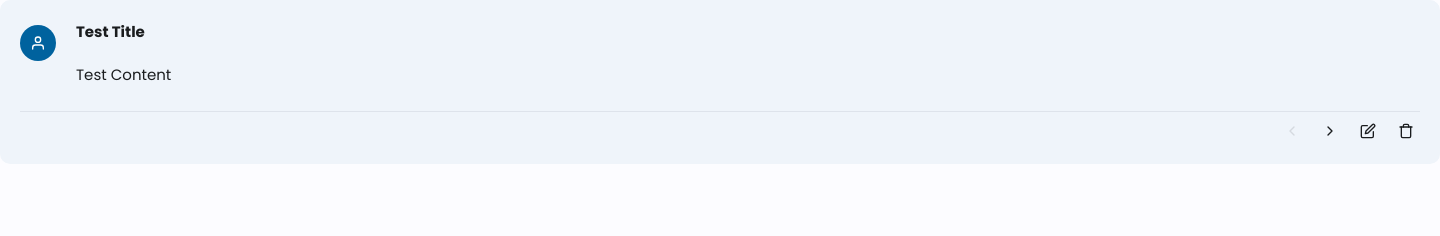
Test: Card Component › clicking trash icon button displays confirmation alert
The width and height of the screenshot is (1440, 236).
Click the 4th button named "show-alert": (1406, 133) [1392, 122, 1420, 144]
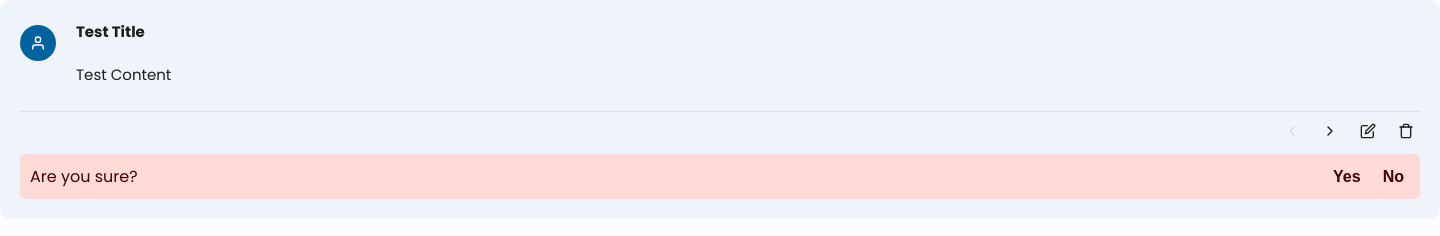
expect the text "Are you sure?" is shown: met, box [30, 165, 138, 188]
